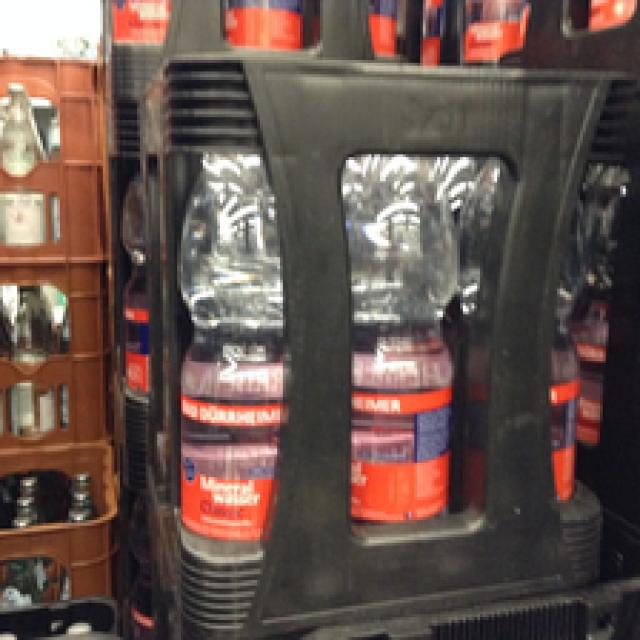groceries: (337, 149, 463, 520), (174, 154, 274, 552)
